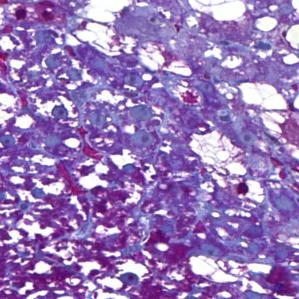ballooning: (187, 127, 253, 194), (236, 78, 292, 148), (183, 1, 254, 28)
